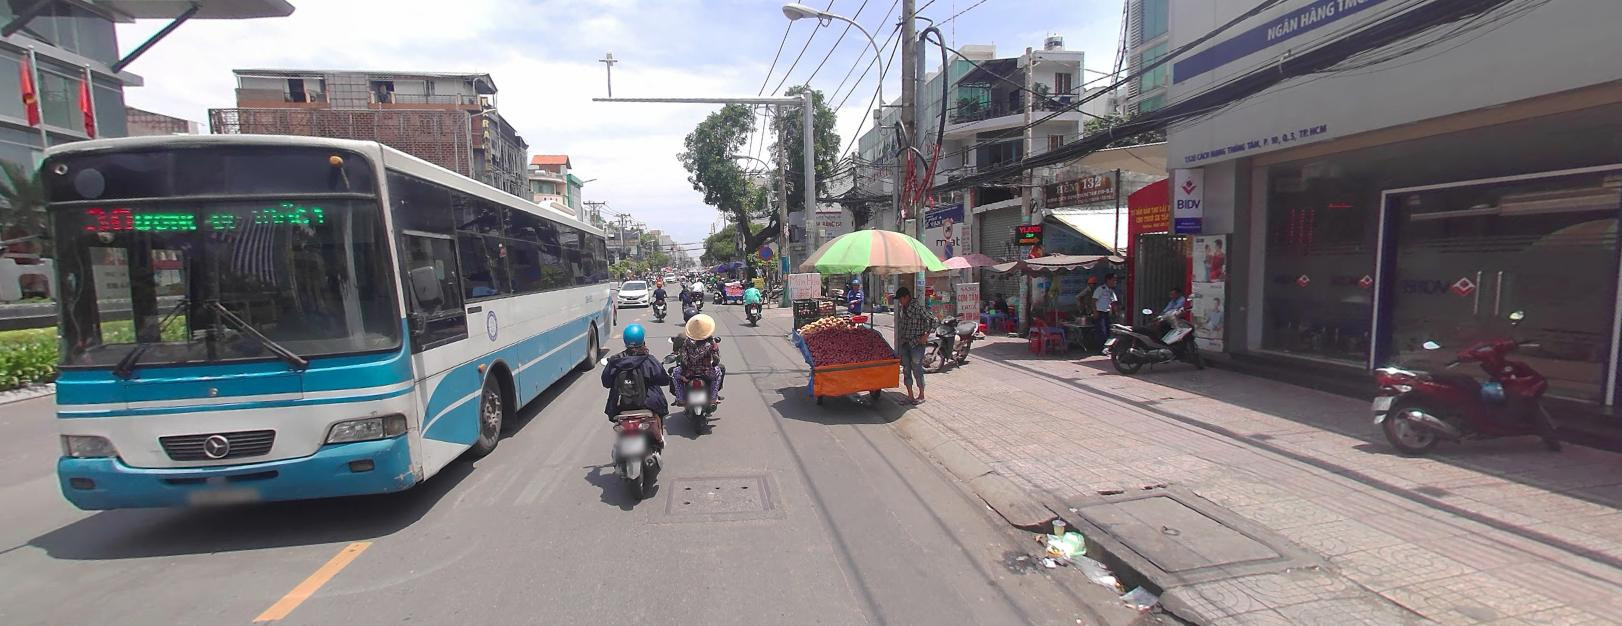Cam con lai: (942, 217, 952, 237), (942, 218, 952, 237)
Cam dung va do: (758, 244, 772, 259), (943, 240, 954, 259), (943, 240, 953, 259), (759, 245, 772, 258)
